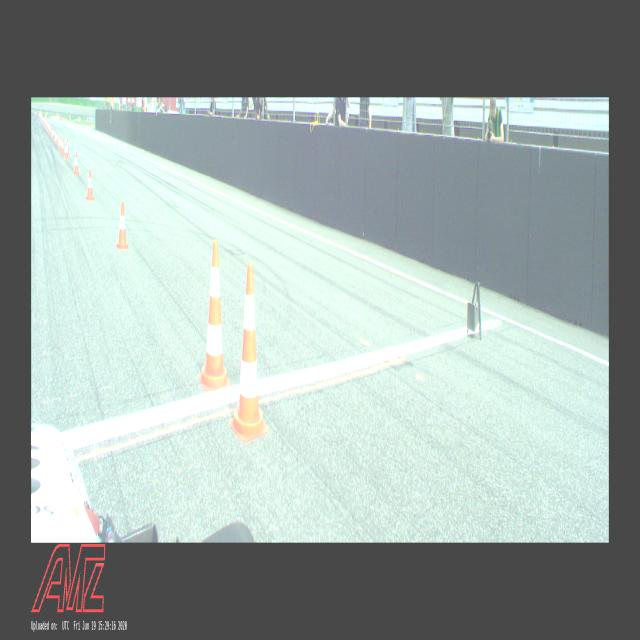large_orange_cone: (229, 264, 268, 442), (198, 241, 230, 391)
orange_cone: (116, 202, 128, 248), (86, 170, 94, 200), (74, 152, 80, 174), (64, 142, 68, 160), (60, 138, 64, 154), (58, 136, 62, 150), (55, 131, 58, 144), (67, 139, 69, 155), (52, 128, 54, 139), (48, 124, 50, 132), (46, 121, 48, 129), (50, 124, 51, 134)
